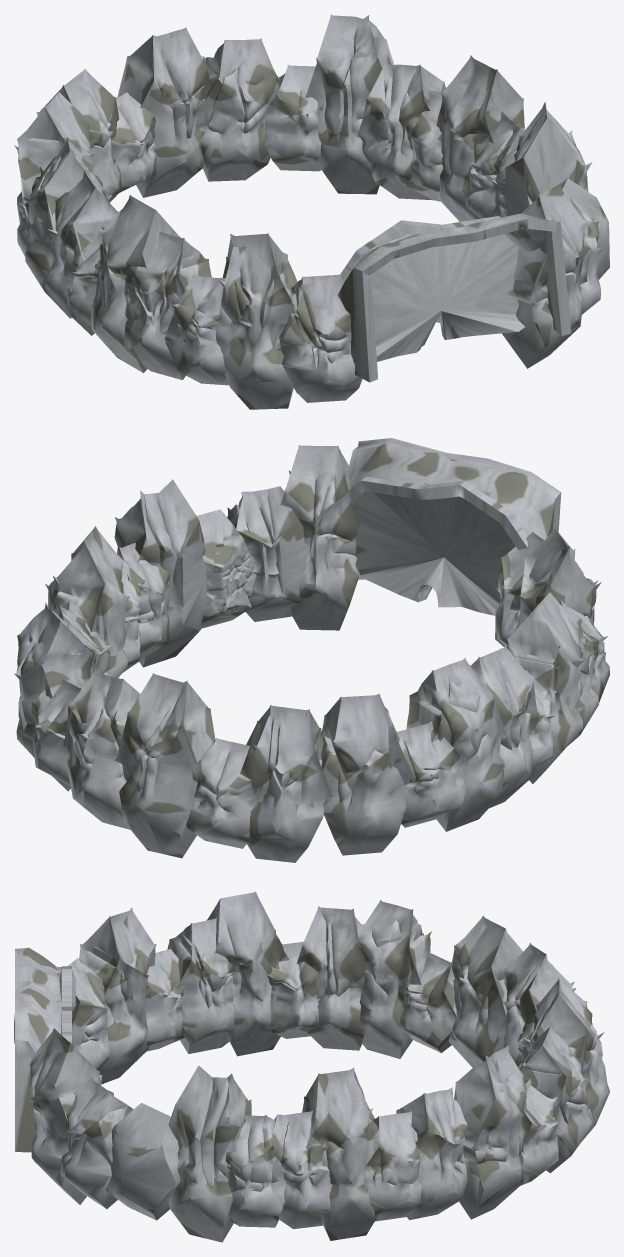
File: quarry-lod2.glb
3 renders of one model, top to bottom at view 1: azimuth 30°, elevation 25°; view 2: azimuth 150°, elevation 25°; view 3: azimuth 270°, elevation 25°, orthographic. The views are drawn at different scales.
Visible parts, largest first — view 1: Quarry_Exit_LOD2, Quarry_Rock_25_LOD2, Quarry_Rock_11_LOD2, Quarry_Rock_14_LOD2, Quarry_Crown_LOD2, Quarry_Rock_13_LOD2, Quarry_Rock_26_LOD2, Quarry_Rock_08_LOD2, Quarry_Rock_02_LOD2, Quarry_Rock_23_LOD2, Quarry_Rock_10_LOD2, Quarry_Rock_22_LOD2 (+15 smaller); view 2: Quarry_Exit_LOD2, Quarry_Rock_14_LOD2, Quarry_Rock_17_LOD2, Quarry_Crown_LOD2, Quarry_Rock_16_LOD2, Quarry_Rock_02_LOD2, Quarry_Rock_19_LOD2, Quarry_Rock_05_LOD2, Quarry_Rock_13_LOD2, Quarry_Rock_03_LOD2, Quarry_Rock_22_LOD2, Quarry_Rock_08_LOD2 (+15 smaller); view 3: Quarry_Rock_05_LOD2, Quarry_Rock_11_LOD2, Quarry_Rock_08_LOD2, Quarry_Rock_19_LOD2, Quarry_Rock_22_LOD2, Quarry_Rock_25_LOD2, Quarry_Rock_17_LOD2, Quarry_Rock_20_LOD2, Quarry_Rock_04_LOD2, Quarry_Rock_23_LOD2, Quarry_Rock_02_LOD2, Quarry_Crown_LOD2 (+14 smaller).
Boxes of the visible parts, x1,y1,x2,y2 form: Quarry_Exit_LOD2: (340, 216, 524, 361); Quarry_Rock_25_LOD2: (215, 233, 297, 409); Quarry_Rock_11_LOD2: (305, 14, 394, 194); Quarry_Rock_14_LOD2: (117, 27, 211, 197); Quarry_Crown_LOD2: (337, 213, 571, 382); Quarry_Rock_13_LOD2: (196, 38, 279, 181); Quarry_Rock_26_LOD2: (275, 274, 362, 402); Quarry_Rock_08_LOD2: (436, 55, 524, 221); Quarry_Rock_02_LOD2: (502, 182, 587, 368); Quarry_Rock_23_LOD2: (124, 231, 211, 379); Quarry_Rock_10_LOD2: (358, 63, 445, 200); Quarry_Rock_22_LOD2: (91, 195, 181, 373); Quarry_Exit_LOD2: (352, 476, 527, 615); Quarry_Rock_14_LOD2: (114, 673, 215, 858); Quarry_Rock_17_LOD2: (320, 693, 414, 855); Quarry_Crown_LOD2: (347, 438, 561, 549); Quarry_Rock_16_LOD2: (240, 705, 332, 862); Quarry_Rock_02_LOD2: (280, 445, 359, 630); Quarry_Rock_19_LOD2: (406, 658, 507, 831); Quarry_Rock_05_LOD2: (114, 479, 206, 667); Quarry_Rock_13_LOD2: (63, 671, 140, 829); Quarry_Rock_03_LOD2: (227, 486, 309, 621); Quarry_Rock_22_LOD2: (500, 592, 584, 783); Quarry_Rock_08_LOD2: (45, 526, 129, 677); Quarry_Rock_05_LOD2: (168, 1065, 251, 1242); Quarry_Rock_11_LOD2: (454, 1045, 532, 1219); Quarry_Rock_08_LOD2: (302, 1068, 379, 1240); Quarry_Rock_19_LOD2: (356, 900, 431, 1058); Quarry_Rock_22_LOD2: (206, 891, 289, 1056); Quarry_Rock_25_LOD2: (79, 907, 156, 1083); Quarry_Rock_17_LOD2: (449, 915, 523, 1067); Quarry_Rock_20_LOD2: (297, 906, 365, 1050); Quarry_Rock_04_LOD2: (106, 1103, 180, 1220); Quarry_Rock_23_LOD2: (167, 918, 234, 1053); Quarry_Rock_02_LOD2: (28, 1028, 102, 1204); Quarry_Crown_LOD2: (14, 947, 75, 1152).
Bounding box in the file's own units: 143 × 51.46 × 163.
1 material, 1 textured.
